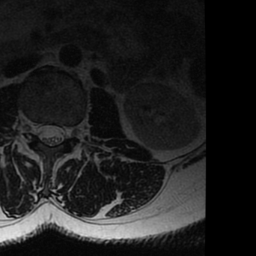CCS_normal: (46, 113, 55, 155)
LFS_normal: (65, 113, 75, 148)
LLS_normal: (55, 113, 65, 151)
RFS_normal: (27, 108, 36, 144)
RLS_normal: (36, 113, 46, 151)
